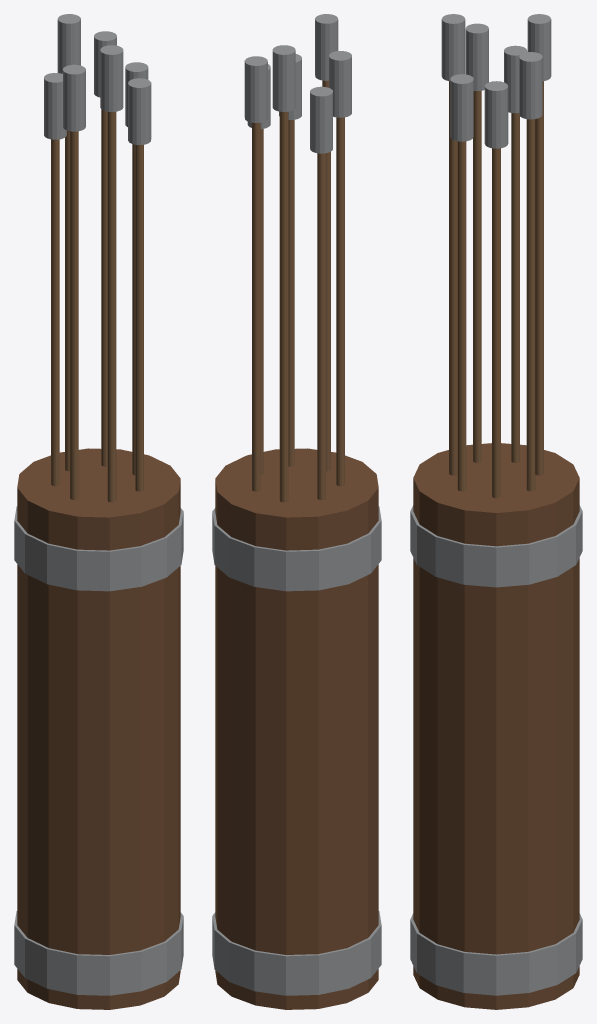
Rendered from quiver.glb.
3 renders of one model, left to right at view 1: azimuth 30°, elevation 25°; view 2: azimuth 150°, elevation 25°; view 3: azimuth 270°, elevation 25°, orthographic.
Visible parts, largest first — view 1: quiver; view 2: quiver; view 3: quiver.
Part boxes in pixels (x1,y1,x2,y2): quiver: [14, 14, 183, 1009]; quiver: [212, 14, 381, 1009]; quiver: [410, 14, 582, 1009].
Bounding box in the file's own units: 0.176 × 1.07 × 0.176.
